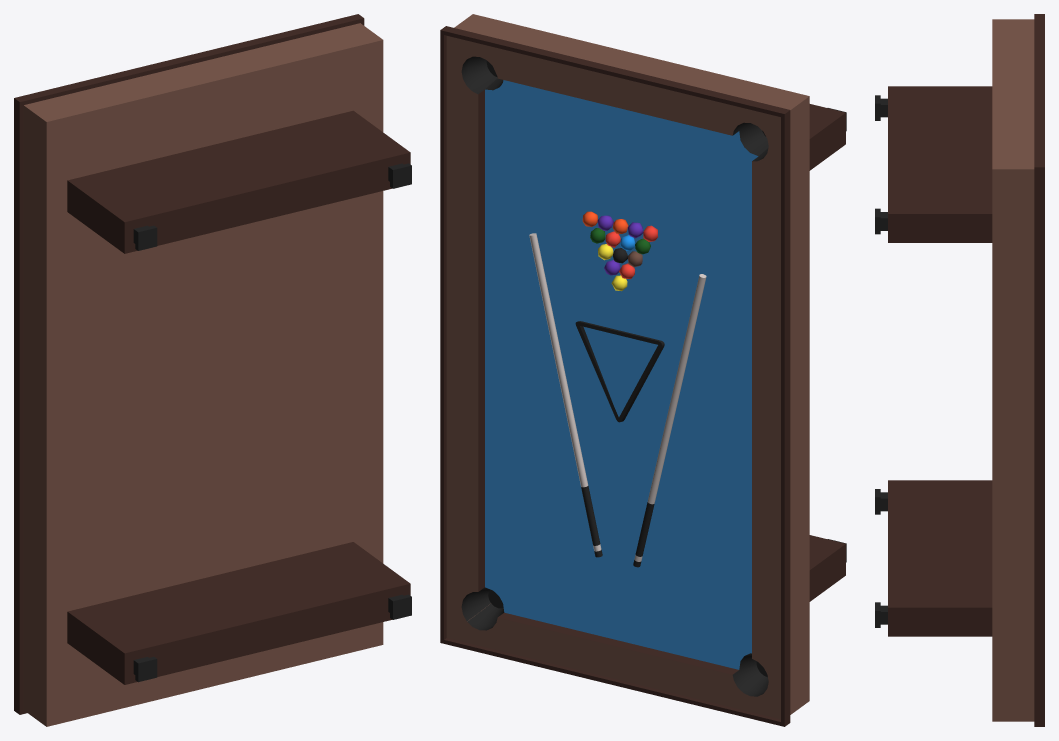
File: pool-table.glb
3 renders of one model, left to right at view 1: azimuth 30°, elevation 25°; view 2: azimuth 150°, elevation 25°; view 3: azimuth 270°, elevation 25°, orthographic. The views are drawn at different scales.
Parts seen in each view (by area): view 1: entertainment_036; view 2: entertainment_036; view 3: entertainment_036.
Boxes of the visible parts, x1=… form: entertainment_036: x1=14, y1=14, x2=411, y2=726; entertainment_036: x1=440, y1=14, x2=846, y2=726; entertainment_036: x1=875, y1=14, x2=1044, y2=726.
Size of the model in its own units: 1.39 by 2.37 by 0.6526.
1 material, 1 textured.
